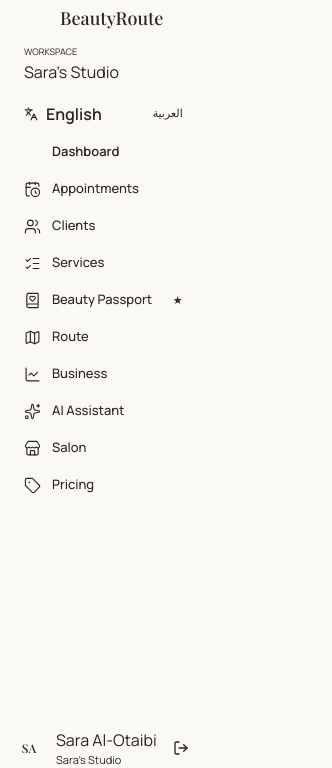
Test case: Sidebar › logout › shows an error and does not navigate away when sign-out fails
Click the button named "Log out": (181, 748) x1=167 y1=734 x2=195 y2=762
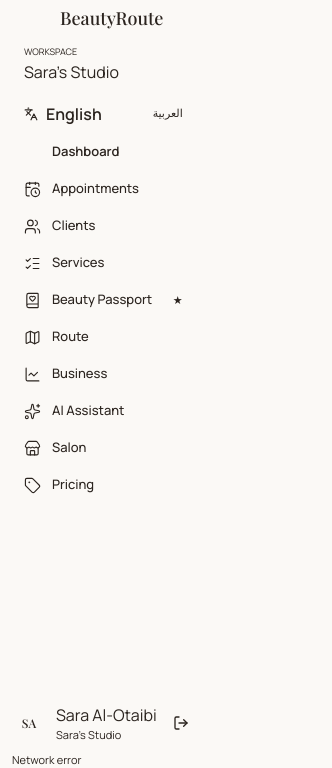
Now the text "Network error" is shown, box x1=12 y1=752 x2=82 y2=766
